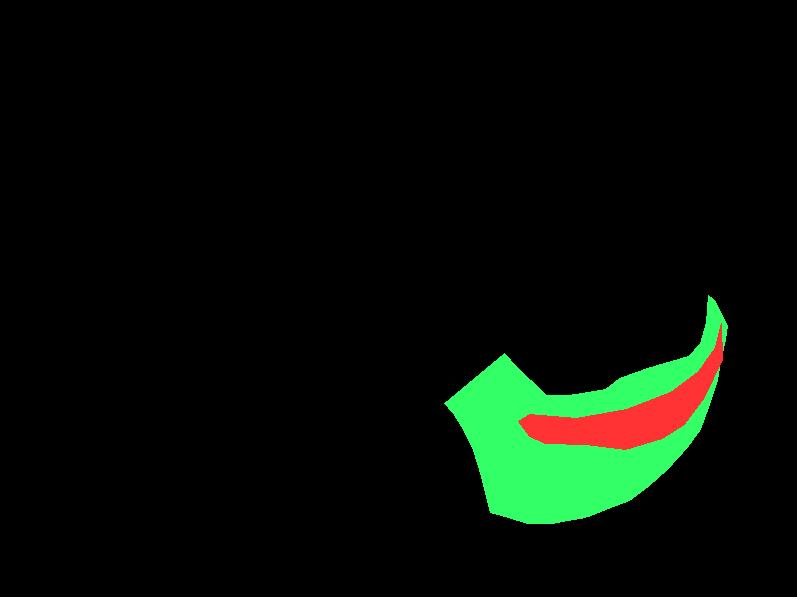Broken part: (444, 295, 727, 523)
Dent: (464, 359, 514, 425)
Missing part: (518, 323, 722, 449)
Paint chip: (520, 504, 582, 519), (527, 444, 555, 458), (503, 457, 515, 487)
